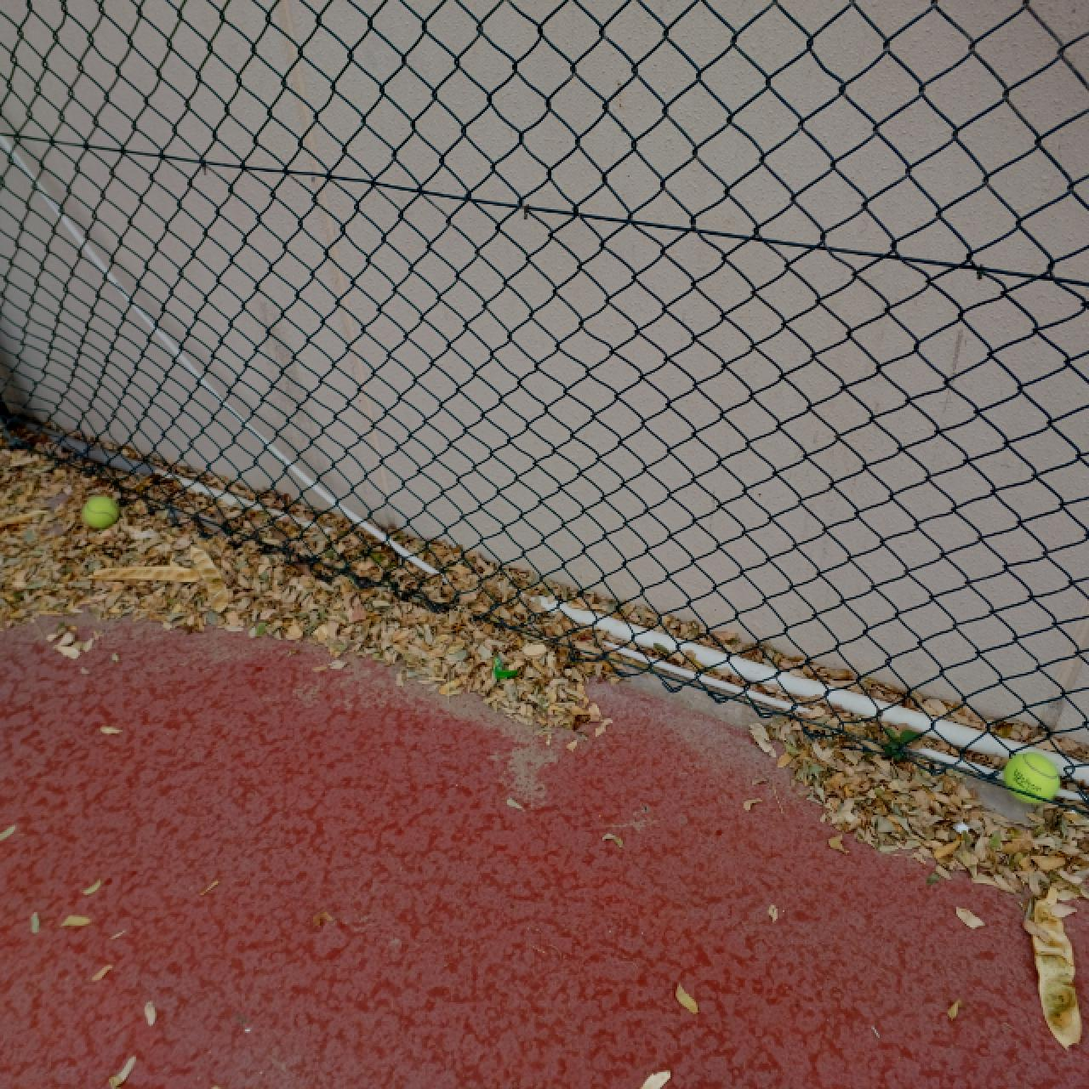tennis-ball: (1005, 748, 1061, 806), (82, 492, 119, 529)
